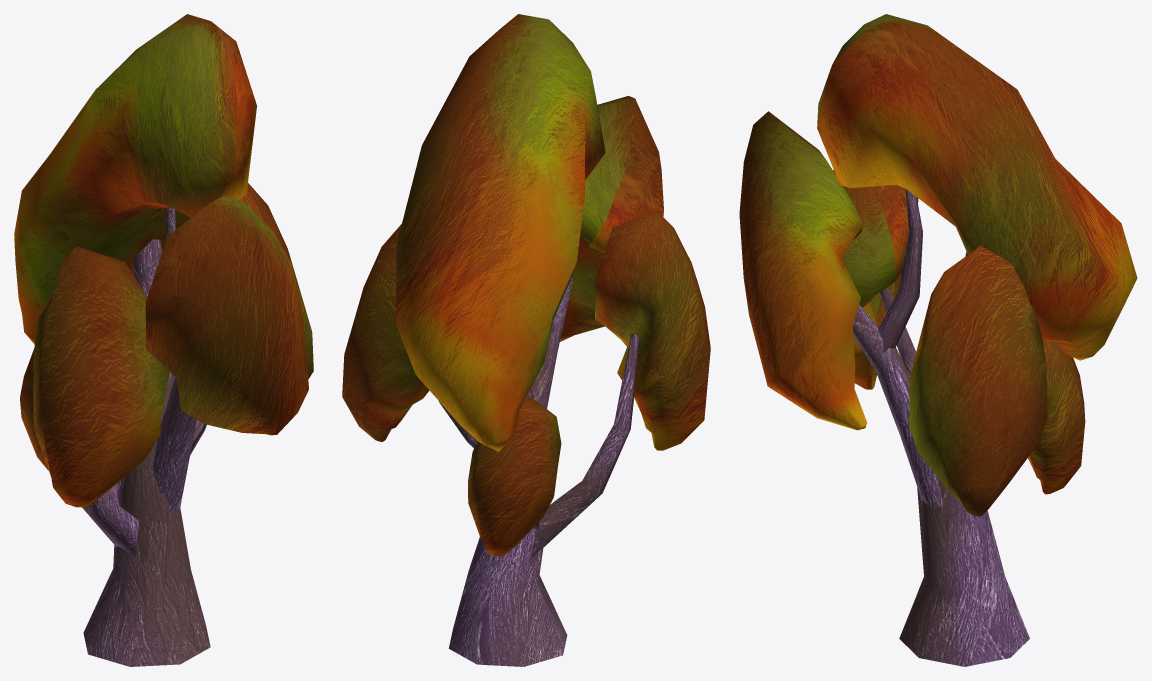
File: Veg_Tree_01_Art.fbx
3 views of the same model, side by side, from view 1: azimuth 30°, elevation 25°; view 2: azimuth 150°, elevation 25°; view 3: azimuth 270°, elevation 25° (orthographic). The views are drawn at different scales.
Visible parts, largest first — view 1: Veg_Tree_01; view 2: Veg_Tree_01; view 3: Veg_Tree_01.
Part boxes in pixels (x1,y1,x2,y2): Veg_Tree_01: [14, 14, 313, 666]; Veg_Tree_01: [342, 14, 710, 666]; Veg_Tree_01: [739, 14, 1137, 666].
Size of what is drawn, in the model's own units: 403 by 757 by 435.
